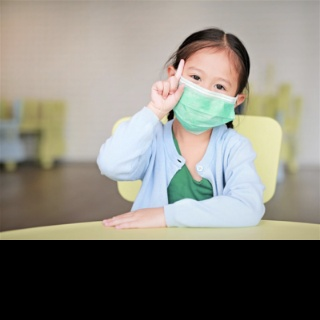with_mask: (176, 65, 237, 130)
